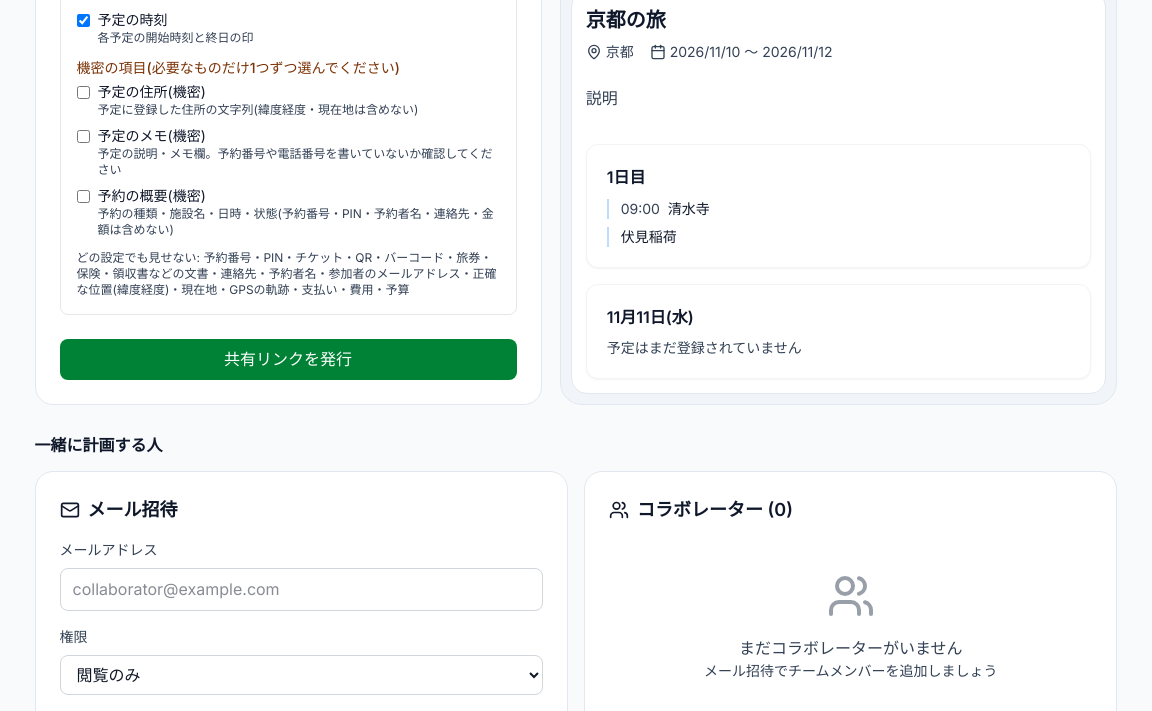
SharePage 閲覧者に見せる項目 (Gate F45) › backend が拒んだ時はその理由を表示する
(page scrolled)
Click the button "共有リンクを発行". click: (288, 359)
box: [60, 339, 517, 380]
(page scrolled)
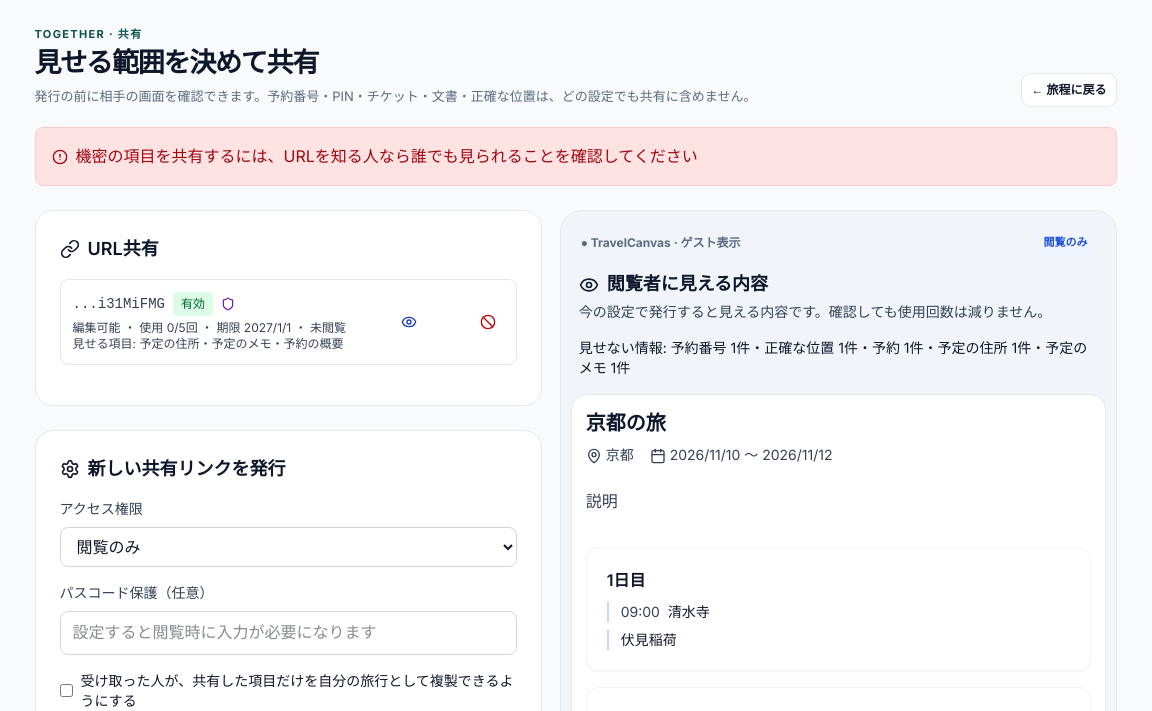
Now the message shows "機密の項目を共有するには", box [76, 146, 698, 166]
